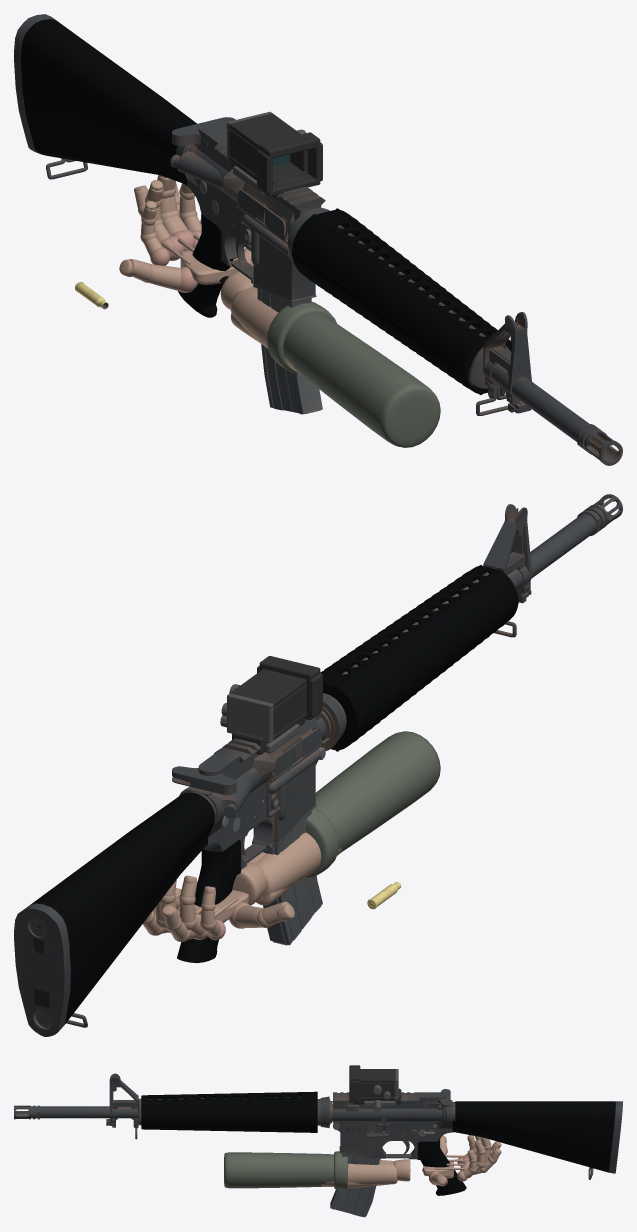
File: rifle_lo.glb
3 views of the same model, one above another, from view 1: azimuth 30°, elevation 25°; view 2: azimuth 150°, elevation 25°; view 3: azimuth 270°, elevation 25° (orthographic). The views are drawn at different scales.
Parts seen in each view (by area): view 1: rifle_body, sleeveL, holo, mag, muscleL, cuffL, palmL_m, bolt, wristL, thL_m; view 2: rifle_body, sleeveL, holo, mag, muscleL, cuffL, bolt, wristL; view 3: rifle_body, sleeveL, holo, mag, muscleR, cuffL, wristL, bolt, palmR_m.
Part boxes in pixels (x1=…): rifle_body: x1=14, y1=14, x2=622, y2=465; sleeveL: x1=283, y1=314, x2=440, y2=447; holo: x1=227, y1=111, x2=322, y2=199; mag: x1=257, y1=289, x2=322, y2=414; muscleL: x1=230, y1=287, x2=301, y2=375; cuffL: x1=267, y1=301, x2=336, y2=374; palmL_m: x1=180, y1=250, x2=237, y2=284; bolt: x1=172, y1=117, x2=235, y2=148; wristL: x1=220, y1=271, x2=253, y2=309; thL_m: x1=149, y1=264, x2=181, y2=290; rifle_body: x1=14, y1=494, x2=622, y2=1036; sleeveL: x1=314, y1=731, x2=440, y2=852; holo: x1=220, y1=656, x2=322, y2=754; mag: x1=263, y1=811, x2=322, y2=945; muscleL: x1=254, y1=832, x2=343, y2=897; cuffL: x1=306, y1=808, x2=338, y2=878; bolt: x1=172, y1=766, x2=236, y2=795; wristL: x1=232, y1=862, x2=266, y2=905; rifle_body: x1=14, y1=1073, x2=622, y2=1195; sleeveL: x1=224, y1=1152, x2=333, y2=1188; holo: x1=349, y1=1065, x2=401, y2=1112; mag: x1=330, y1=1153, x2=379, y2=1217; muscleR: x1=321, y1=1162, x2=397, y2=1186; cuffL: x1=334, y1=1151, x2=348, y2=1189; wristL: x1=394, y1=1159, x2=410, y2=1181; bolt: x1=425, y1=1089, x2=450, y2=1110; palmR_m: x1=423, y1=1165, x2=453, y2=1177.
Bounding box in the file's own units: 0.2377 × 0.2597 × 0.9982.
Materials: 9 (2 with a texture image).
